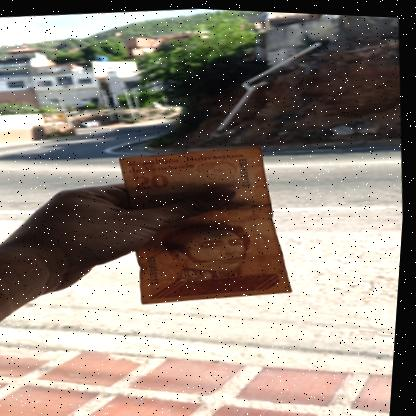twenty-front-vef: (113, 133, 304, 310)
